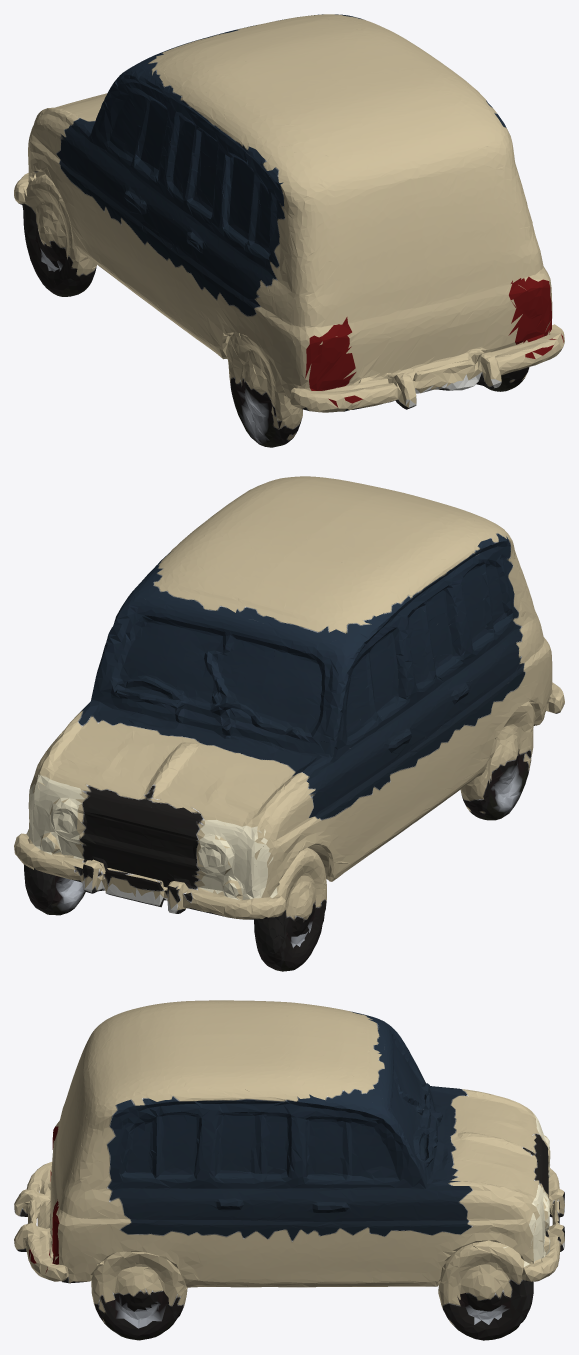
Rendered from renault4.glb.
3 views of the same model, one above another, from view 1: azimuth 30°, elevation 25°; view 2: azimuth 150°, elevation 25°; view 3: azimuth 270°, elevation 25° (orthographic). The views are drawn at different scales.
Parts seen in each view (by area): view 1: body, taillights_rear, wheel_1; view 2: body, headlights_front, wheel_1, wheel_2; view 3: body, wheel_3, headlights_front, wheel_2, taillights_rear.
Boxes of the visible parts, box(x1,y1,x2,y2) form: body: box(14, 14, 564, 444); taillights_rear: box(305, 276, 563, 407); wheel_1: box(233, 380, 284, 447); body: box(14, 476, 564, 970); headlights_front: box(26, 774, 277, 900); wheel_1: box(471, 754, 528, 820); wheel_2: box(38, 876, 85, 915); body: box(14, 1000, 564, 1340); wheel_3: box(103, 1290, 174, 1340); headlights_front: box(503, 1112, 550, 1266); wheel_2: box(452, 1293, 518, 1340); taillights_rear: box(29, 1126, 59, 1273).
Size of the model in its own units: 85.23 by 90.57 by 176.
7 materials, 1 textured.
